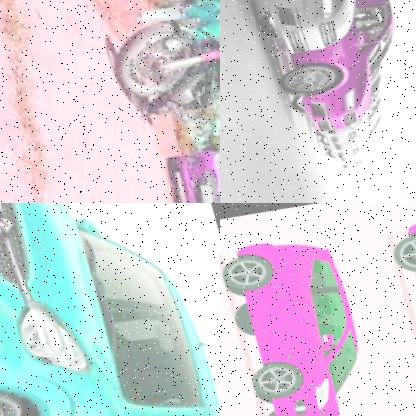bike: (103, 0, 220, 130)
car: (0, 203, 220, 416), (220, 222, 383, 416), (271, 26, 414, 141), (246, 0, 406, 64), (156, 129, 220, 203)
